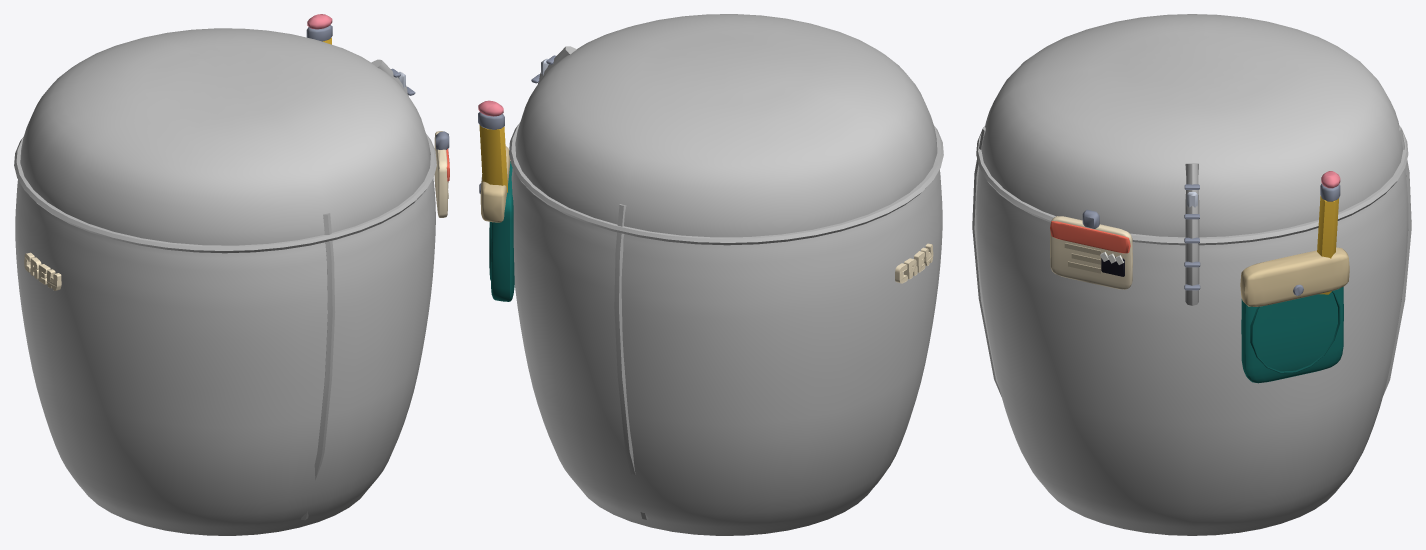
Rendered from SM_Crew_Torso.fbx.
The picture shows the model from 3 angles, left to right: view 1: azimuth 30°, elevation 25°; view 2: azimuth 150°, elevation 25°; view 3: azimuth 270°, elevation 25°; orthographic projection. The views are drawn at different scales.
Visible parts, largest first — view 1: SM_Crew_Torso; view 2: SM_Crew_Torso; view 3: SM_Crew_Torso.
Part boxes in pixels (<box>): SM_Crew_Torso: <box>14,14,449,535</box>; SM_Crew_Torso: <box>478,14,943,535</box>; SM_Crew_Torso: <box>972,14,1411,535</box>.
Size of the model in its own units: 108 by 104 by 102.
